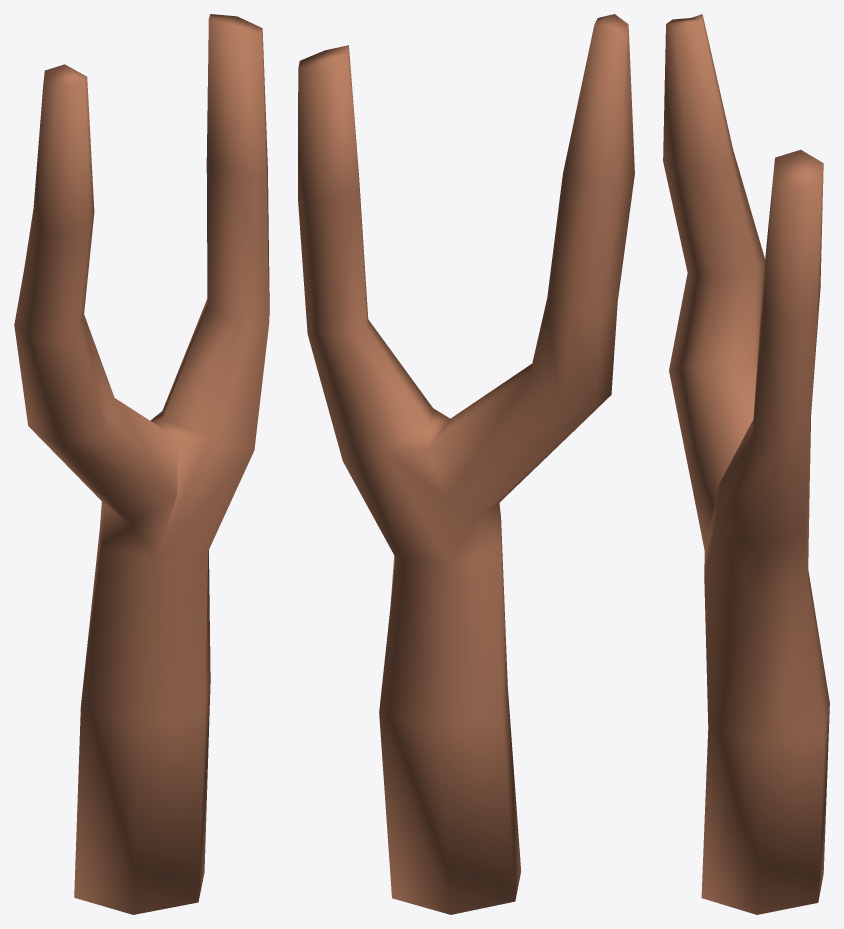
The model's file is Tree_Btm_A_01_LOD2.gltf.
The picture shows the model from 3 angles, left to right: view 1: azimuth 30°, elevation 25°; view 2: azimuth 150°, elevation 25°; view 3: azimuth 270°, elevation 25°; orthographic projection. The views are drawn at different scales.
Parts seen in each view (by area): view 1: Tree_Btm_A_01_LOD2_Cylinder.739; view 2: Tree_Btm_A_01_LOD2_Cylinder.739; view 3: Tree_Btm_A_01_LOD2_Cylinder.739.
Part boxes in pixels (box(x1,y1,x2,y2)): Tree_Btm_A_01_LOD2_Cylinder.739: box(14, 14, 269, 914); Tree_Btm_A_01_LOD2_Cylinder.739: box(298, 14, 634, 914); Tree_Btm_A_01_LOD2_Cylinder.739: box(663, 14, 829, 914).
Bounding box in the file's own units: 2.41 × 7.21 × 1.34.
1 material, 1 textured.
